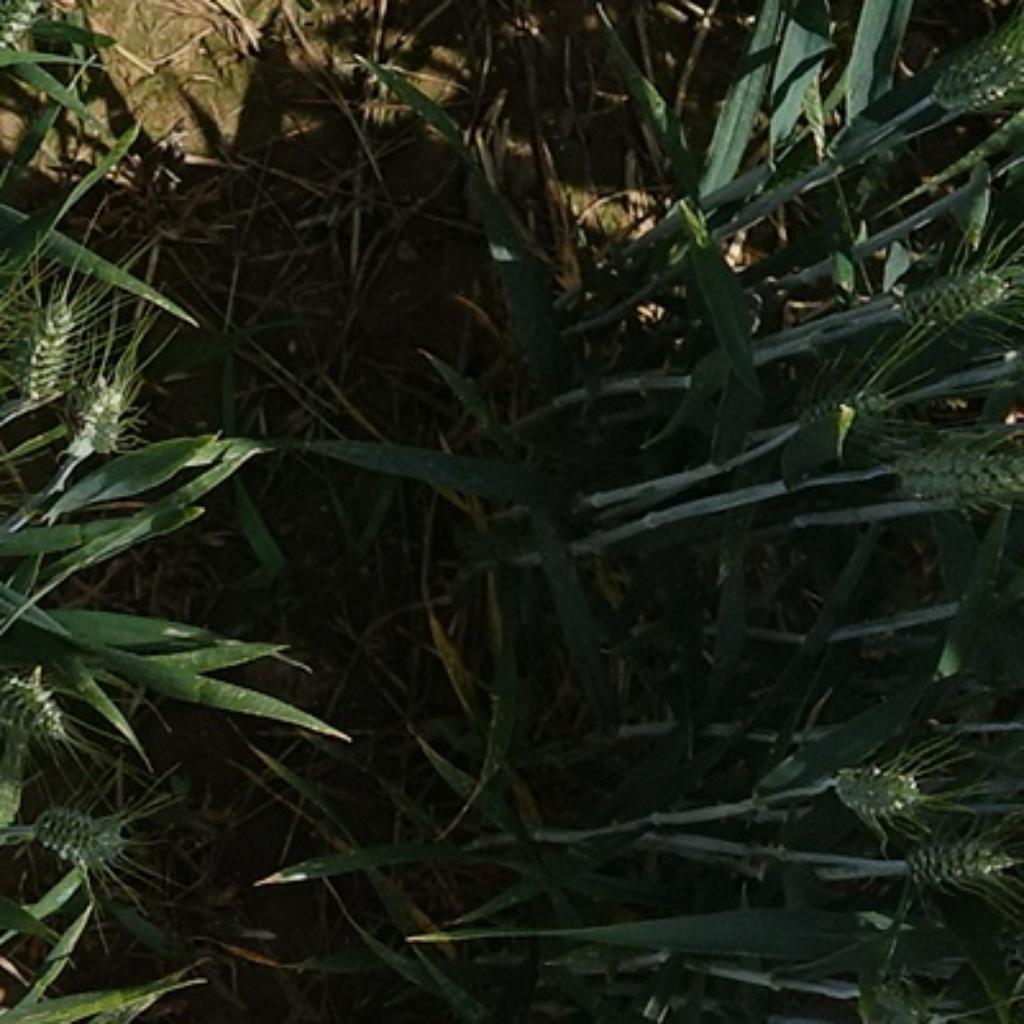0-0: (893, 424, 1021, 512), (4, 296, 90, 425), (803, 350, 913, 445), (885, 250, 1018, 327), (901, 816, 1018, 890), (25, 791, 128, 870), (934, 28, 1024, 117), (58, 363, 140, 460), (826, 752, 929, 824), (0, 657, 71, 750), (0, 453, 2, 522)
